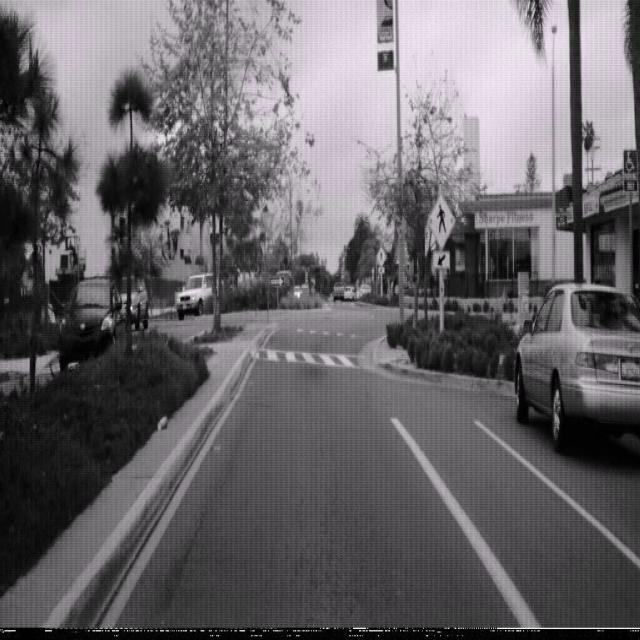pedestrianCrossing: (427, 191, 456, 250)
yield: (261, 211, 275, 237)
